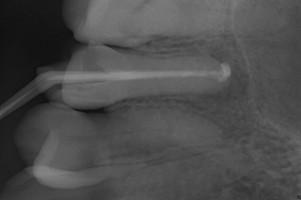Furcation Involvement: (197, 48, 252, 102)
